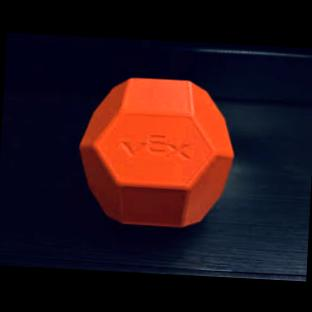V5_RED: (79, 77, 233, 226)
